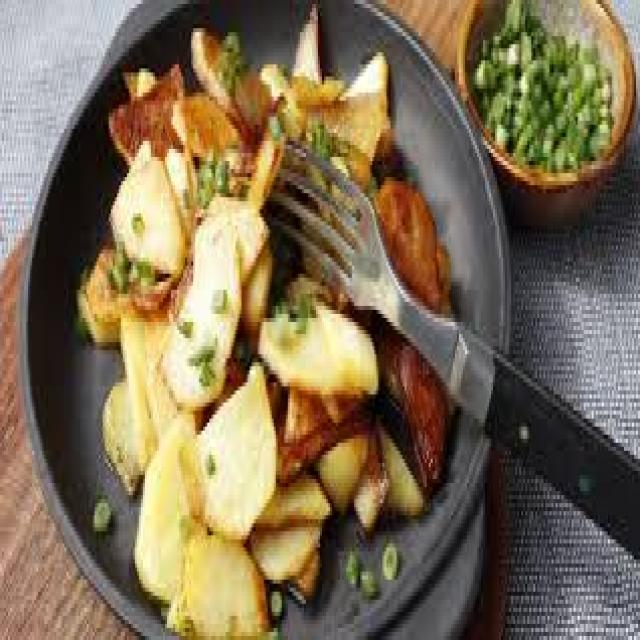Potato: (78, 0, 456, 640)
